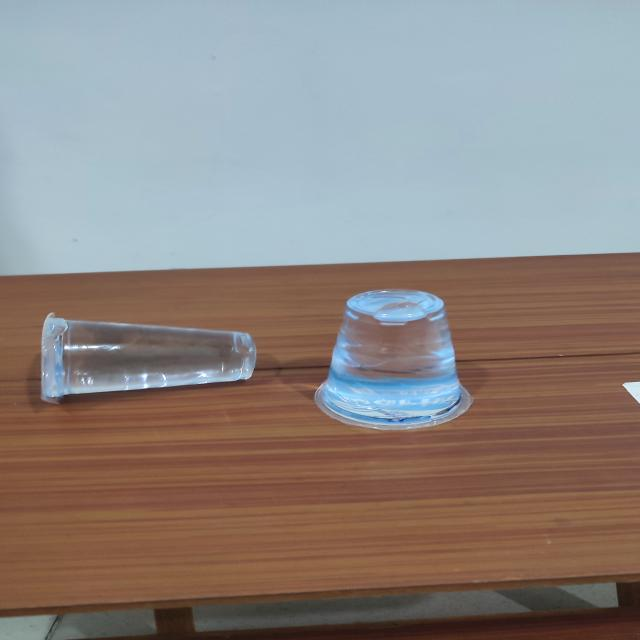air gelas: (309, 284, 483, 434), (22, 309, 274, 401)
